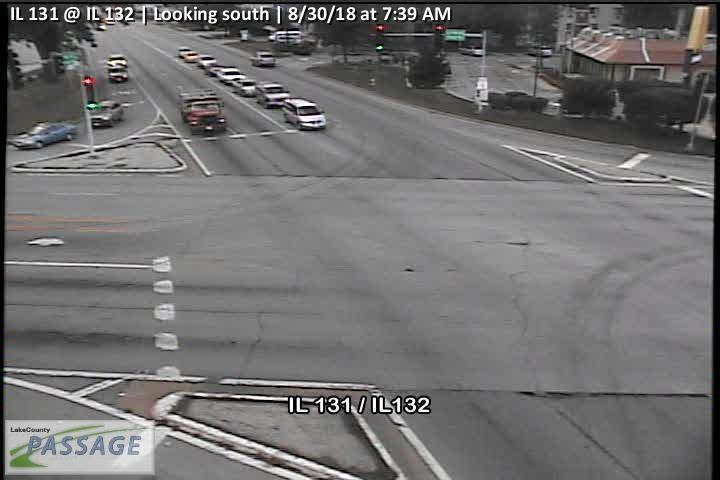SUV: (282, 96, 327, 132), (254, 82, 292, 109)
Sedan: (6, 118, 78, 148), (86, 99, 124, 127), (215, 65, 246, 84), (232, 77, 259, 97), (248, 50, 278, 66), (194, 54, 216, 69), (459, 44, 485, 56), (183, 51, 199, 63), (177, 45, 191, 56)
